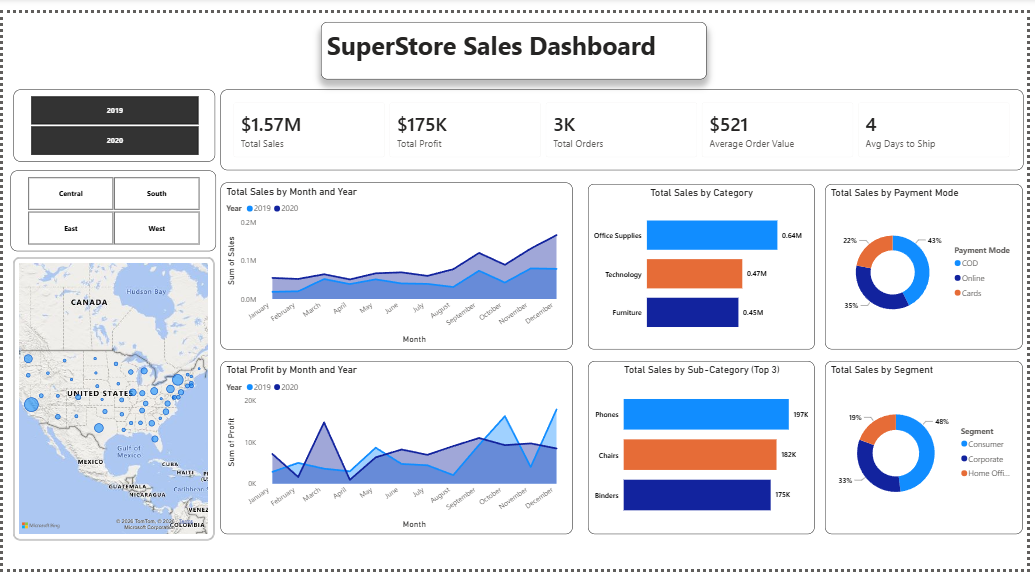

The dashboard page shown, as its layout file describes it:
{"tool":"powerbi","page":{"name":"Page 1","canvas":[1750,950],"ordinal":0},"visuals":[{"type":"cardVisual","fields":{"Data":["SuperStore_Sales_Dataset.Total Sales","SuperStore_Sales_Dataset.Total Profit","SuperStore_Sales_Dataset.Total Orders","SuperStore_Sales_Dataset.Average Order Value","SuperStore_Sales_Dataset.Avg Days to Ship"]},"box":[372.3,131.9,1372.3,138.3],"z":0},{"type":"textbox","box":[544.7,14.9,659.6,97.9],"z":1000},{"type":"donutChart","title":"Total Sales by Payment Mode","fields":{"Y":["Sum(SuperStore_Sales_Dataset.Sales)"],"Category":["SuperStore_Sales_Dataset.Payment Mode"]},"box":[1406.4,291.5,338.3,283],"z":2000},{"type":"donutChart","title":"Total Sales by Segment","fields":{"Category":["SuperStore_Sales_Dataset.Segment"],"Y":["Sum(SuperStore_Sales_Dataset.Sales)"]},"box":[1406.4,595.7,338.3,295.7],"z":3000},{"type":"clusteredBarChart","title":"Total Sales by Category ","fields":{"Category":["SuperStore_Sales_Dataset.Category"],"Y":["Sum(SuperStore_Sales_Dataset.Sales)"]},"box":[1000,291.5,387.2,283],"z":4000},{"type":"clusteredBarChart","title":"Total Sales by Sub-Category (Top 3)","fields":{"Y":["Sum(SuperStore_Sales_Dataset.Sales)"],"Category":["SuperStore_Sales_Dataset.Sub-Category"]},"box":[1000,595.7,387.2,295.7],"z":5000},{"type":"areaChart","title":"Total Sales by Month and Year","fields":{"Y":["Sum(SuperStore_Sales_Dataset.Sales)"],"Series":["SuperStore_Sales_Dataset.Order Date.Variation.Date Hierarchy.Year"],"Category":["SuperStore_Sales_Dataset.Order Date.Variation.Date Hierarchy.Month","SuperStore_Sales_Dataset.Order Date.Variation.Date Hierarchy.Day"]},"box":[372.3,289.4,602.1,285.1],"z":7000},{"type":"areaChart","title":"Total Profit by Month and Year","fields":{"Y":["Sum(SuperStore_Sales_Dataset.Profit)"],"Series":["SuperStore_Sales_Dataset.Order Date.Variation.Date Hierarchy.Year"],"Category":["SuperStore_Sales_Dataset.Order Date.Variation.Date Hierarchy.Month","SuperStore_Sales_Dataset.Order Date.Variation.Date Hierarchy.Day"]},"box":[372.3,595.7,602.1,295.7],"z":8000},{"type":"map","title":"Sales and Profit by State","fields":{"Category":["SuperStore_Sales_Dataset.State"],"Size":["Sum(SuperStore_Sales_Dataset.Sales)"]},"box":[17,417,342.6,483],"z":9000},{"type":"slicer","fields":{"Values":["SuperStore_Sales_Dataset.Region"]},"box":[12.8,270.2,351.1,138.3],"z":10000},{"type":"slicer","fields":{"Values":["SuperStore_Sales_Dataset.Order Date.Variation.Date Hierarchy.Year"]},"box":[17,131.9,344.7,123.4],"z":10001}]}

Visuals, with their boxes in screenshot pixels (x1, y1, x2, y2), scaled from the page's 1750x950 canvas onto the 1035x574 screenshot:
cardVisual - SuperStore_Sales_Dataset.Total Sales x SuperStore_Sales_Dataset.Total Profit: bbox=(220, 80, 1032, 163)
textbox: bbox=(322, 9, 712, 68)
"Total Sales by Payment Mode" donutChart: bbox=(832, 176, 1032, 347)
"Total Sales by Segment" donutChart: bbox=(832, 360, 1032, 539)
"Total Sales by Category " clusteredBarChart: bbox=(591, 176, 820, 347)
"Total Sales by Sub-Category (Top 3)" clusteredBarChart: bbox=(591, 360, 820, 539)
"Total Sales by Month and Year" areaChart: bbox=(220, 175, 576, 347)
"Total Profit by Month and Year" areaChart: bbox=(220, 360, 576, 539)
"Sales and Profit by State" map: bbox=(10, 252, 213, 544)
slicer - SuperStore_Sales_Dataset.Region: bbox=(8, 163, 215, 247)
slicer - SuperStore_Sales_Dataset.Order Date.Variation.Date Hierarchy.Year: bbox=(10, 80, 214, 154)
